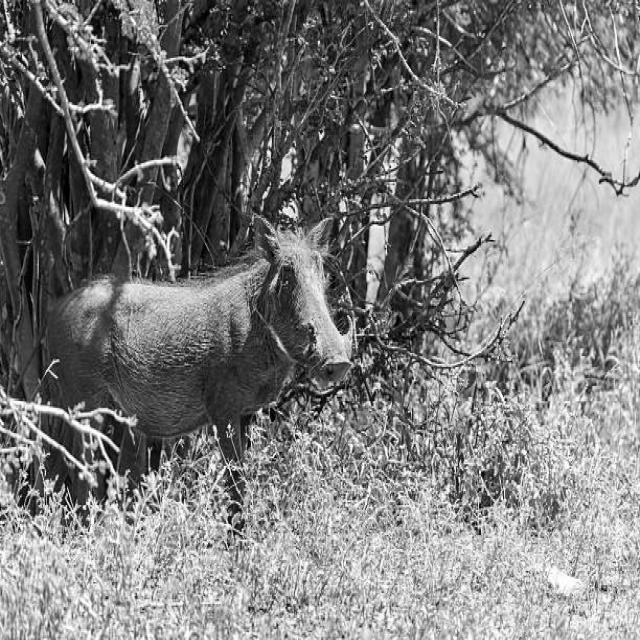boar: (46, 215, 350, 518)
